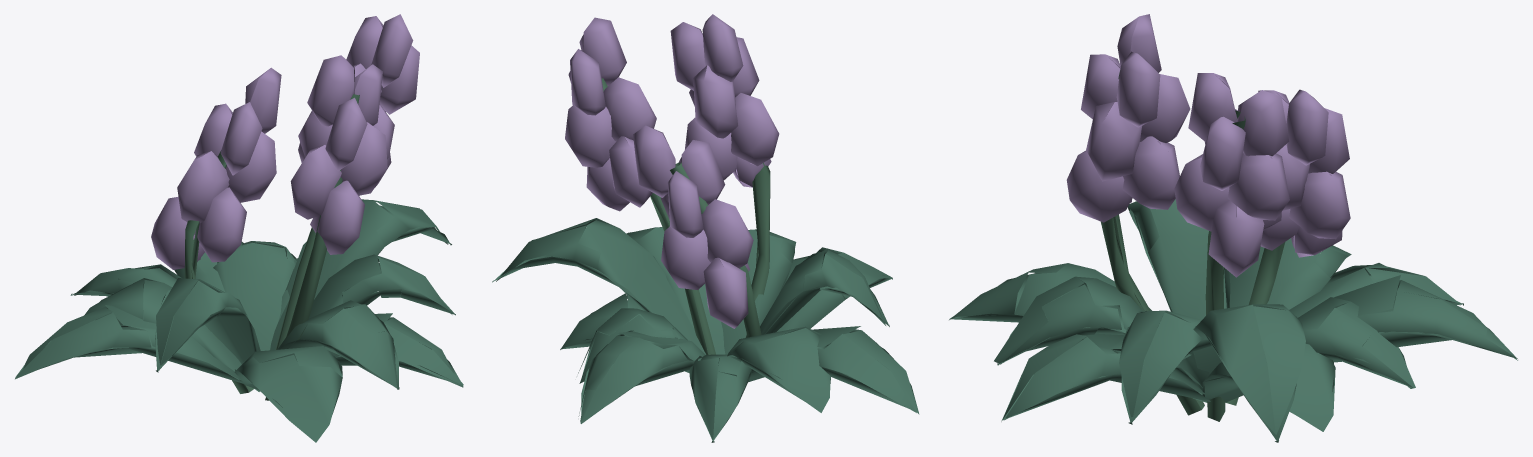
The picture shows the model from 3 angles, left to right: view 1: azimuth 30°, elevation 25°; view 2: azimuth 150°, elevation 25°; view 3: azimuth 270°, elevation 25°; orthographic projection. The views are drawn at different scales.
Parts seen in each view (by area): view 1: Lavender_wide; view 2: Lavender_wide; view 3: Lavender_wide.
Part boxes in pixels (x1=…): Lavender_wide: x1=15, y1=14, x2=463, y2=442; Lavender_wide: x1=492, y1=14, x2=919, y2=442; Lavender_wide: x1=949, y1=14, x2=1517, y2=442.
Size of the model in its own units: 0.9165 by 0.706 by 0.8628.
1 material, 1 textured.
